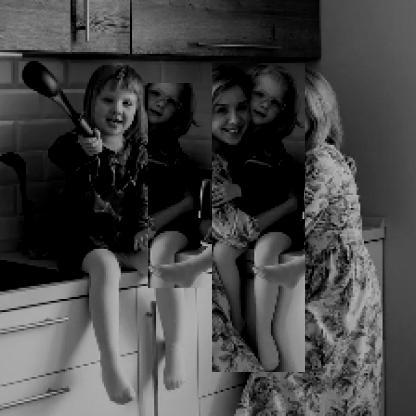child: (48, 62, 189, 406), (213, 64, 307, 374), (149, 85, 267, 291)
